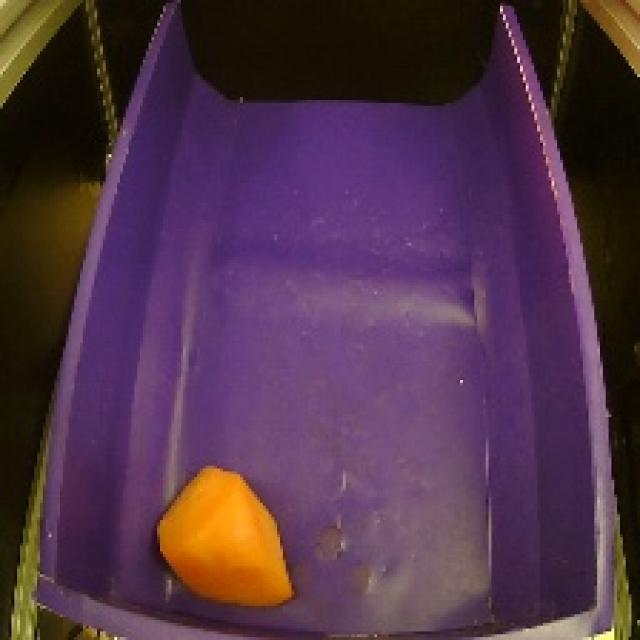carrots: (142, 456, 304, 615)
